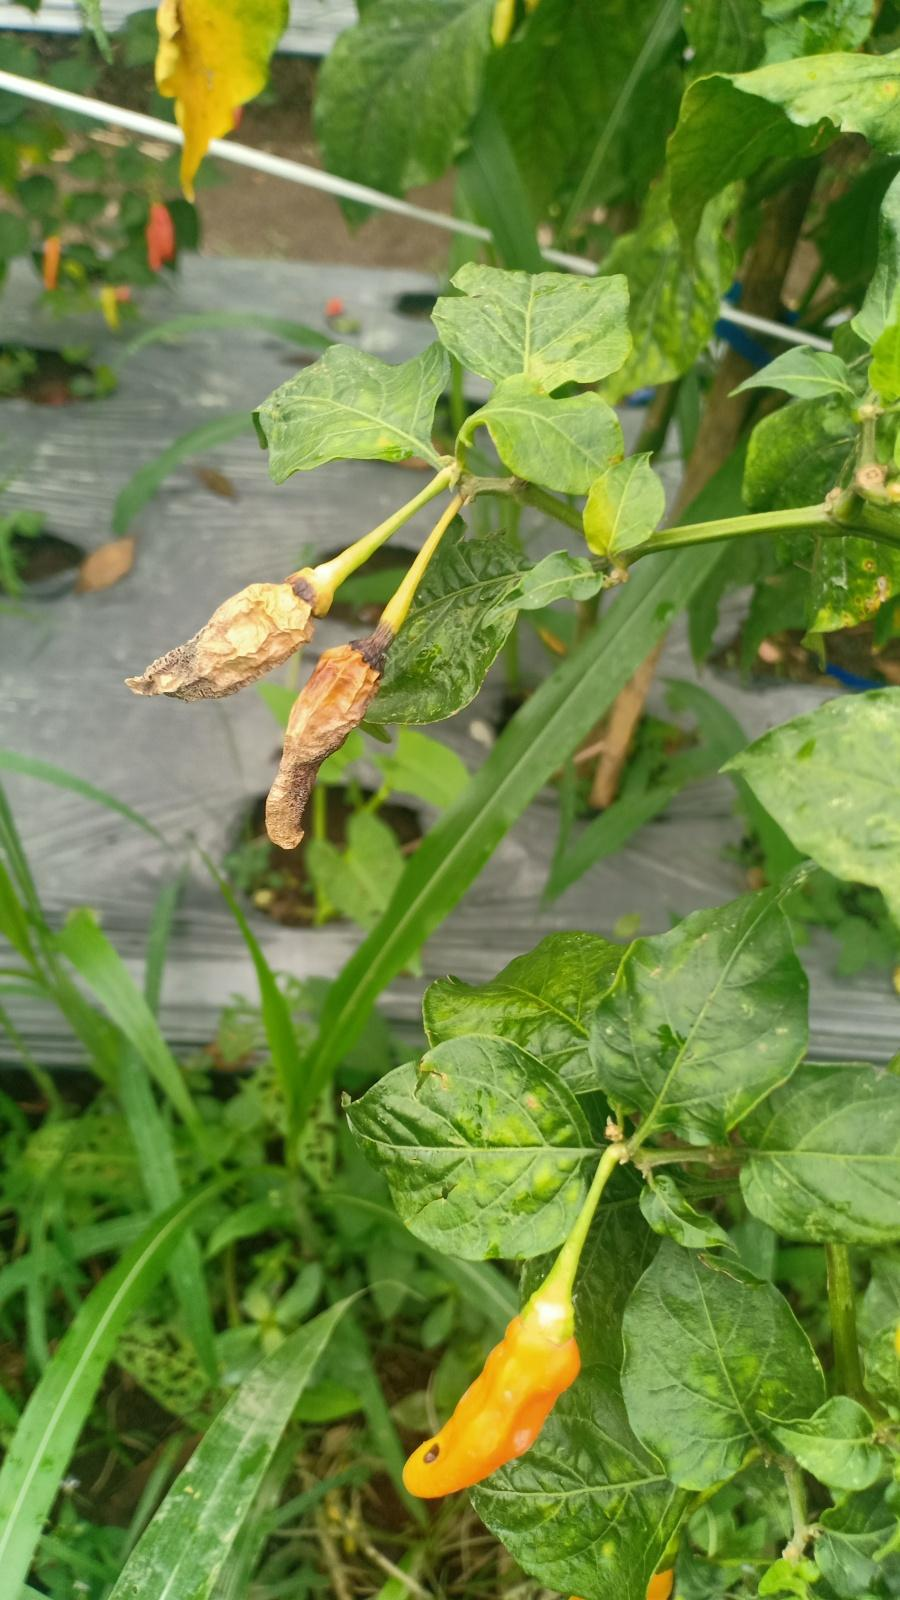antraknosa: (259, 643, 389, 849), (123, 578, 314, 705)
cabai_normal: (400, 1301, 584, 1501)
